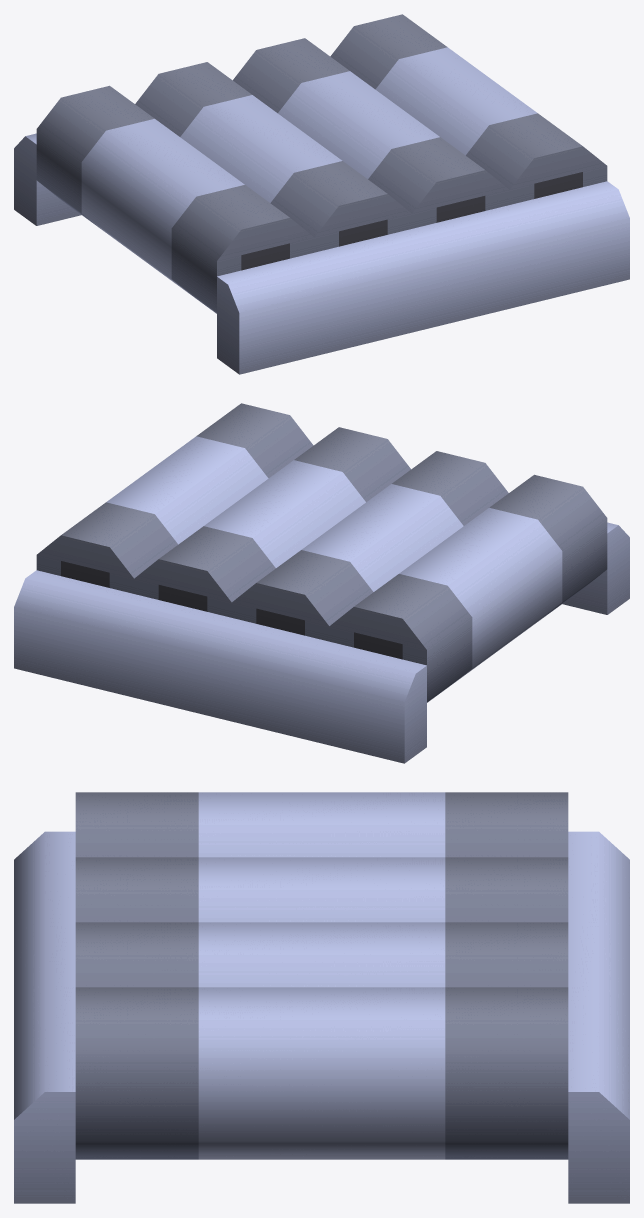
The model's file is conveyor-bars-stripe-side.glb.
3 views of the same model, one above another, from view 1: azimuth 30°, elevation 25°; view 2: azimuth 150°, elevation 25°; view 3: azimuth 270°, elevation 25° (orthographic). The views are drawn at different scales.
Visible parts, largest first — view 1: Group.001, Group; view 2: Group.001, Group; view 3: Group.001, Group.
Part boxes in pixels (bbox=[...]): Group.001: bbox=[36, 14, 607, 313]; Group: bbox=[14, 133, 629, 374]; Group.001: bbox=[36, 403, 607, 702]; Group: bbox=[14, 522, 629, 763]; Group.001: bbox=[75, 792, 568, 1159]; Group: bbox=[14, 831, 629, 1203].
Size of the model in its own units: 1 by 0.3 by 1.
1 material, 1 textured.
